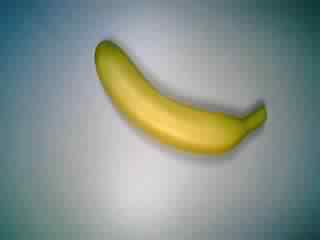banana: (92, 38, 270, 157)
